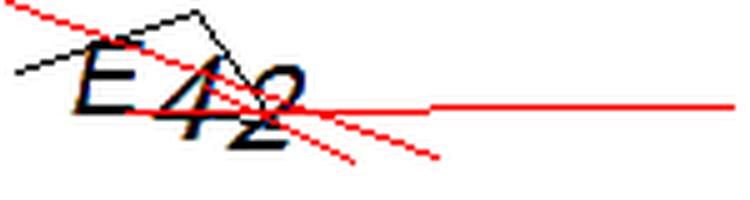2: (221, 57, 312, 157)
4: (148, 47, 243, 144)
E: (68, 32, 154, 121)
